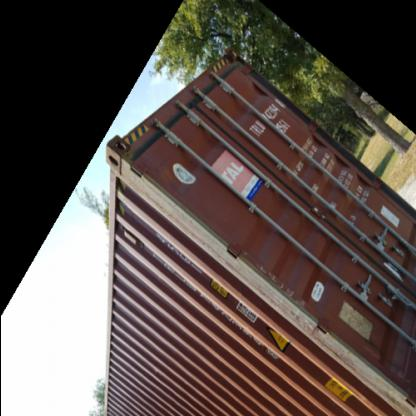Damage: (245, 257, 304, 313)
